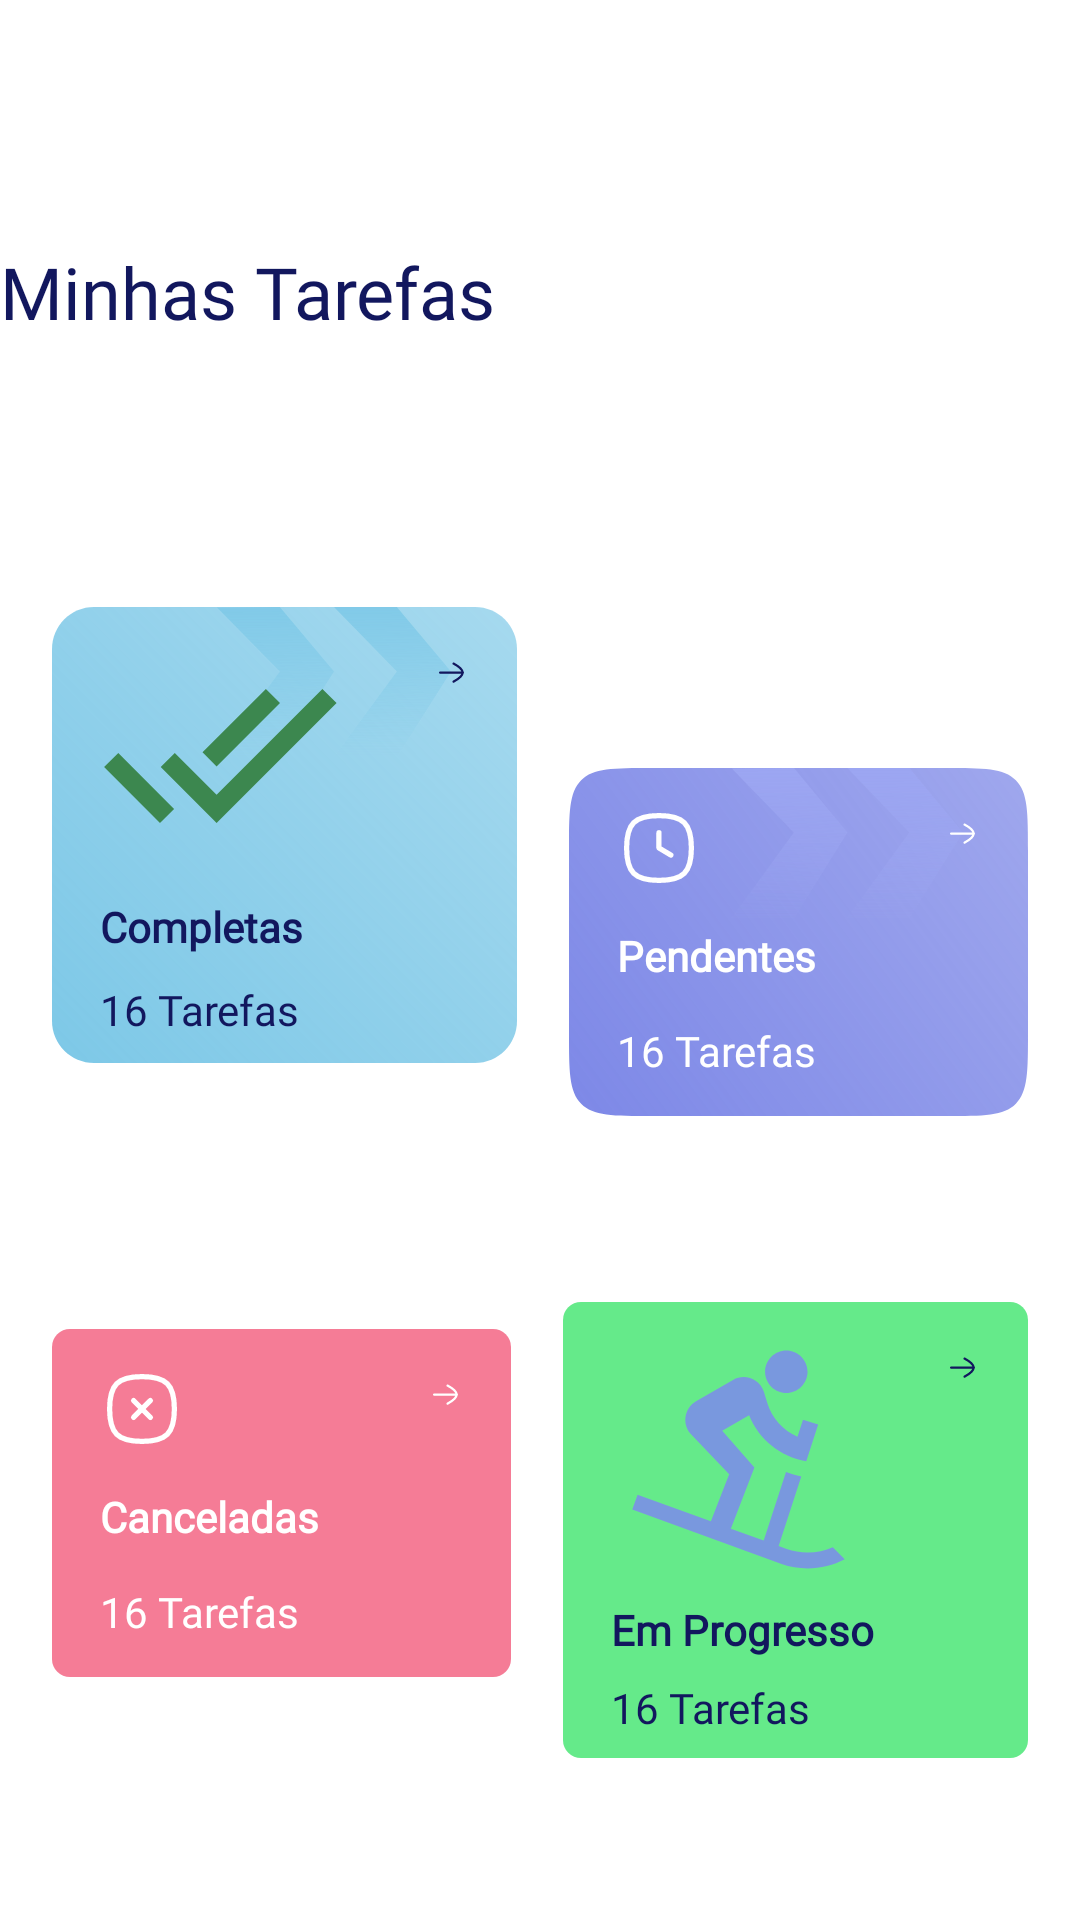

Named icons in this screenshot (1080 x 1920) and their centers, (x,y):
arrow right: (451,672), (962,833), (962,1367), (445,1394)
clock: (659,848)
close: (142,1409)
done all: (220,756)
